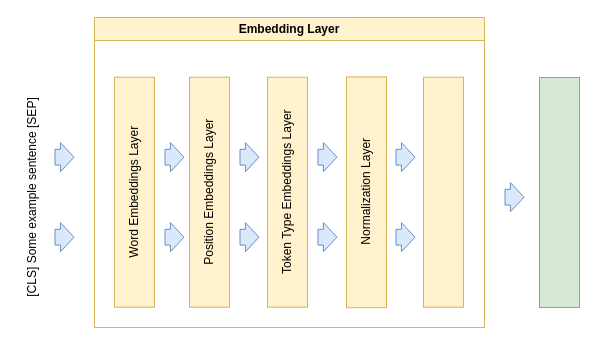
This 597x345 diagram has some shape labels left out. The centre of each missing label's shape, as x and y in pixels:
"Dropout Layer" belongs at (443,191).
"Encoding Layer" belongs at (559,192).
